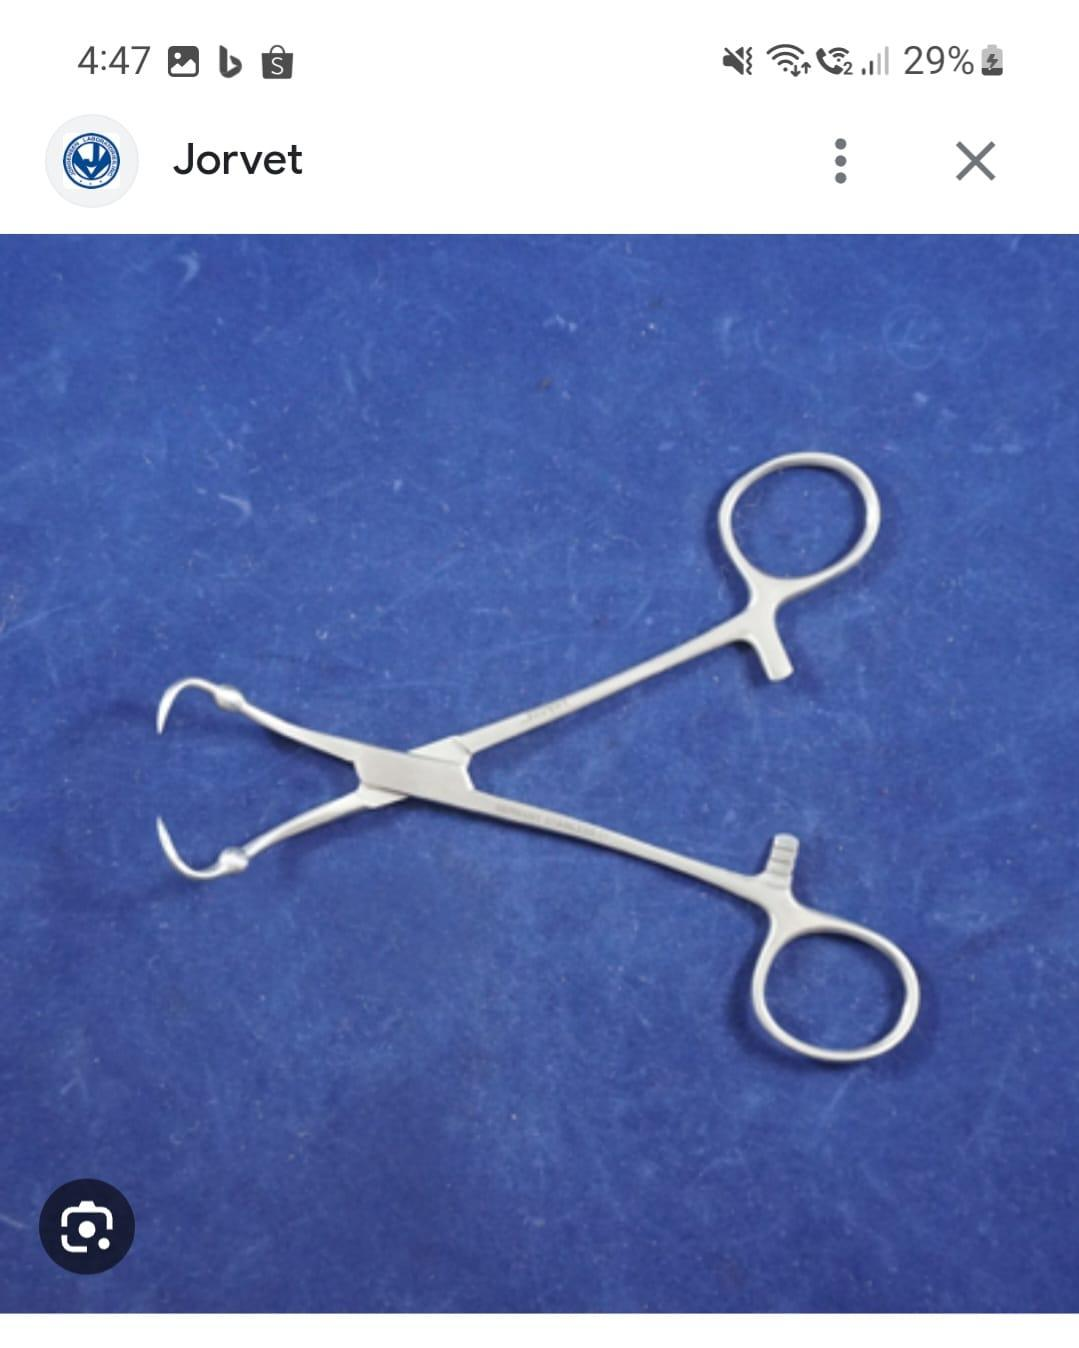Backhaus Towel Clamp: (146, 444, 934, 1094)
